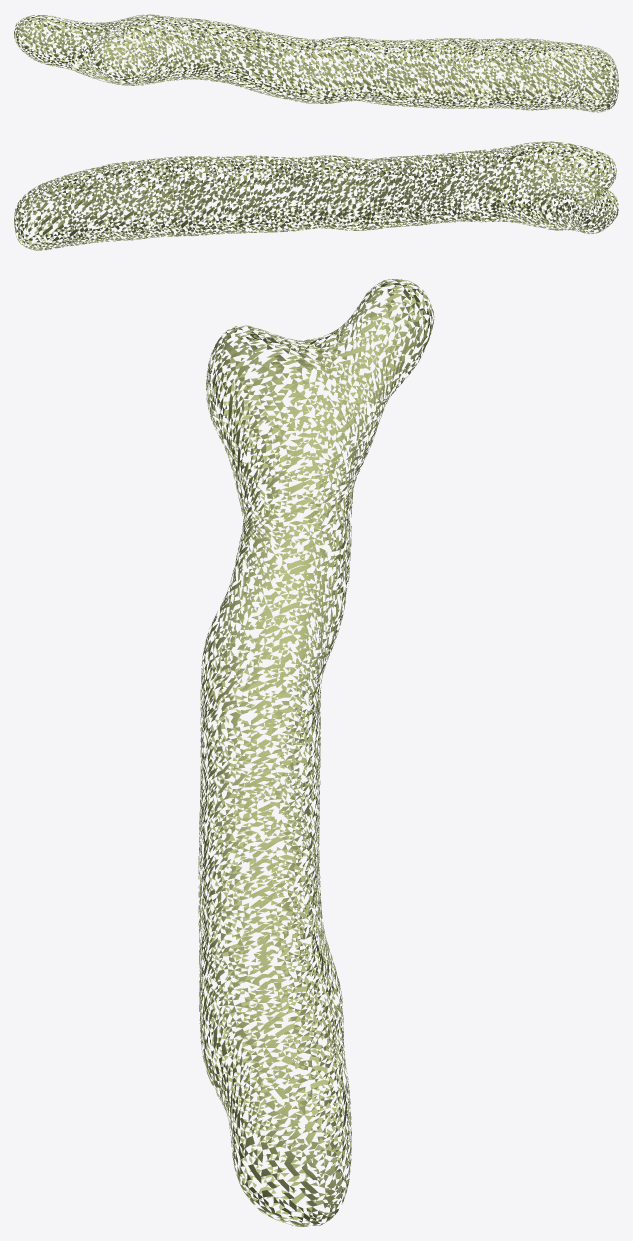
The model's file is morph_010.glb.
3 renders of one model, top to bottom at view 1: azimuth 30°, elevation 25°; view 2: azimuth 150°, elevation 25°; view 3: azimuth 270°, elevation 25°, orthographic. The views are drawn at different scales.
Bounding box in the file's own units: 128 × 43.66 × 22.57.
